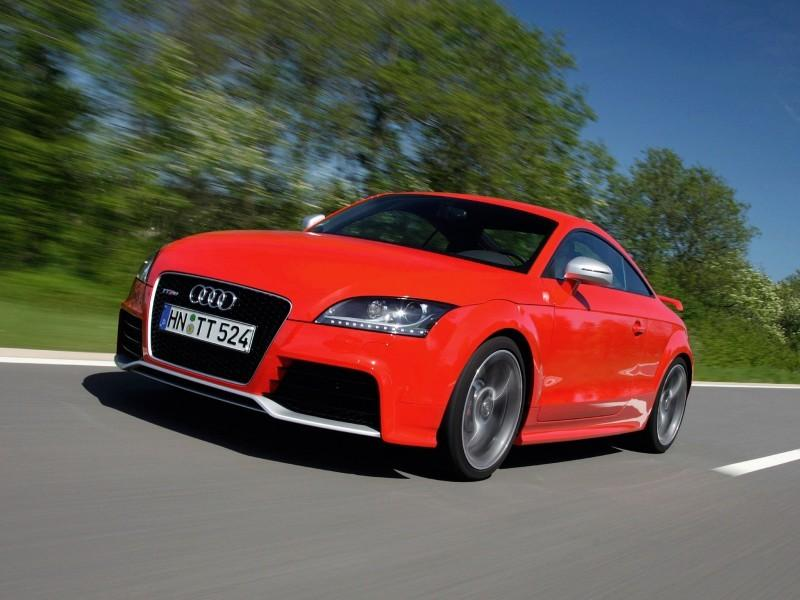Audi: (183, 275, 243, 321)
